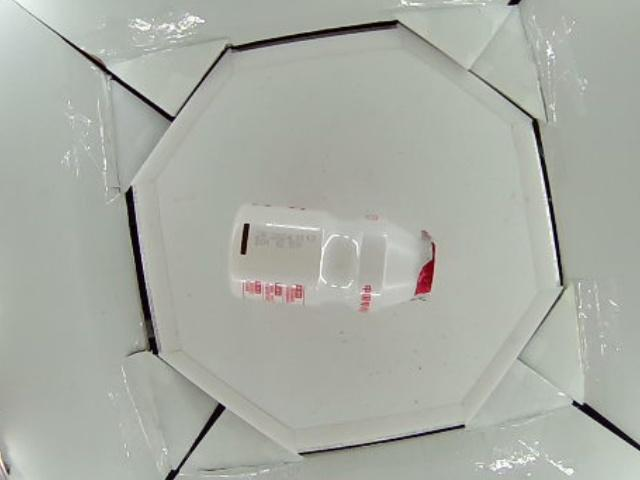Bottle: (225, 202, 438, 316)
